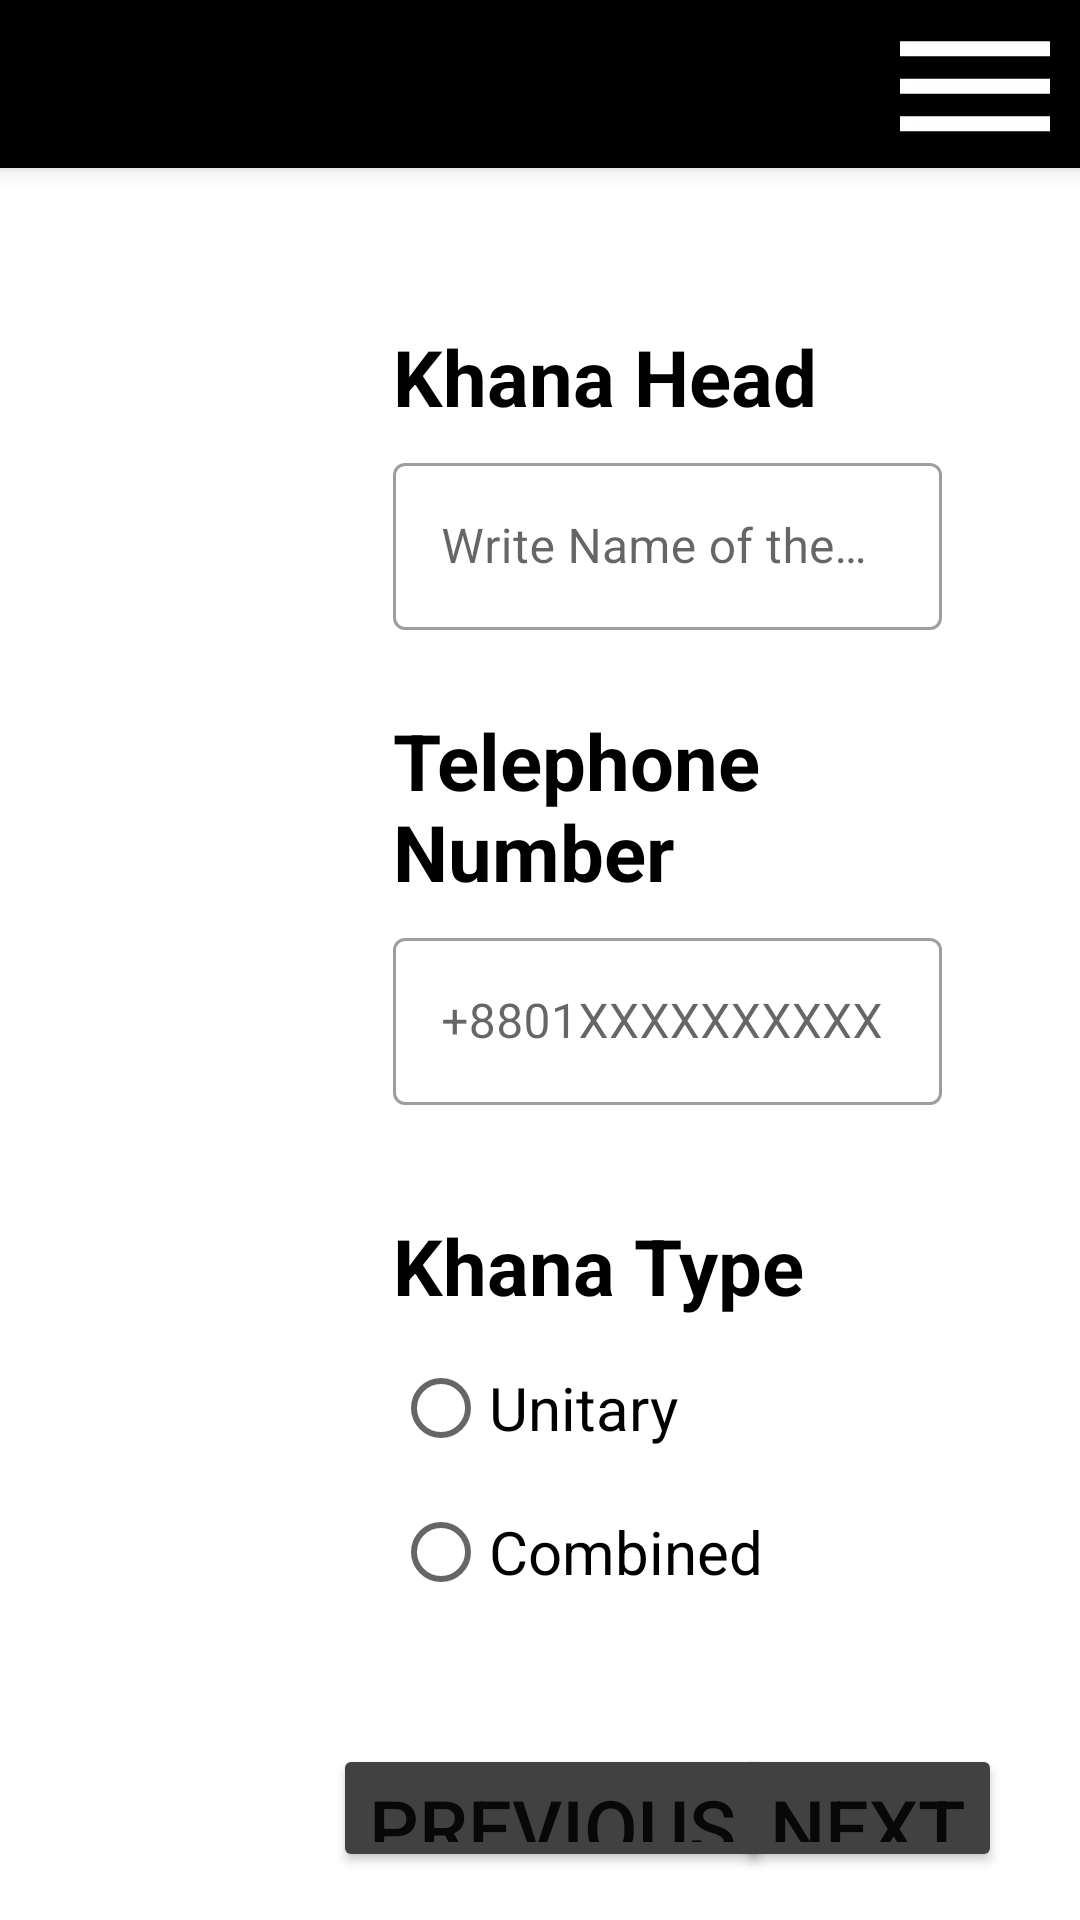

Icons on this 1080 x 1920 Android screen, each with its box as [x1=x1, y1=y1, x2=x2, y2=y2]:
dehaze: [x1=900, y1=41, x2=1050, y2=132]
